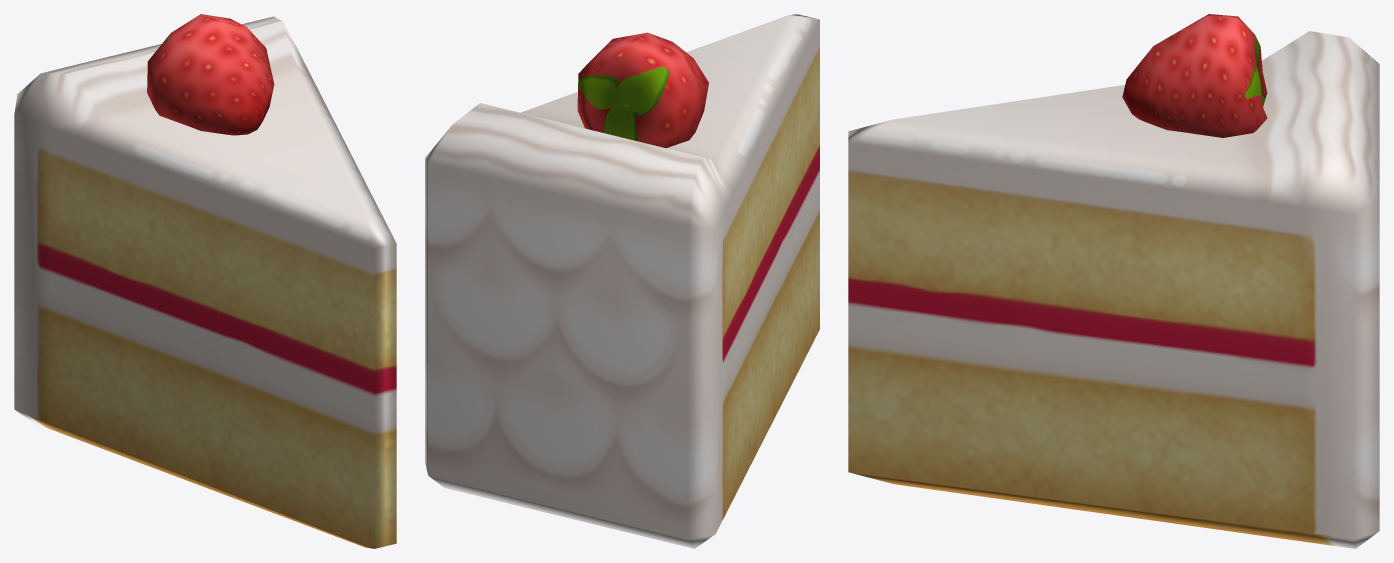
The model's file is Shortcake_Slice.fbx.
The picture shows the model from 3 angles, left to right: view 1: azimuth 30°, elevation 25°; view 2: azimuth 150°, elevation 25°; view 3: azimuth 270°, elevation 25°; orthographic projection. The views are drawn at different scales.
Visible parts, largest first — view 1: Shortcake_Slice; view 2: Shortcake_Slice; view 3: Shortcake_Slice.
Boxes of the visible parts, x1,y1,x2,y2 form: Shortcake_Slice: (14, 14, 396, 548); Shortcake_Slice: (425, 14, 819, 548); Shortcake_Slice: (848, 14, 1379, 548).
Bounding box in the file's own units: 26.02 × 37.33 × 38.81.
